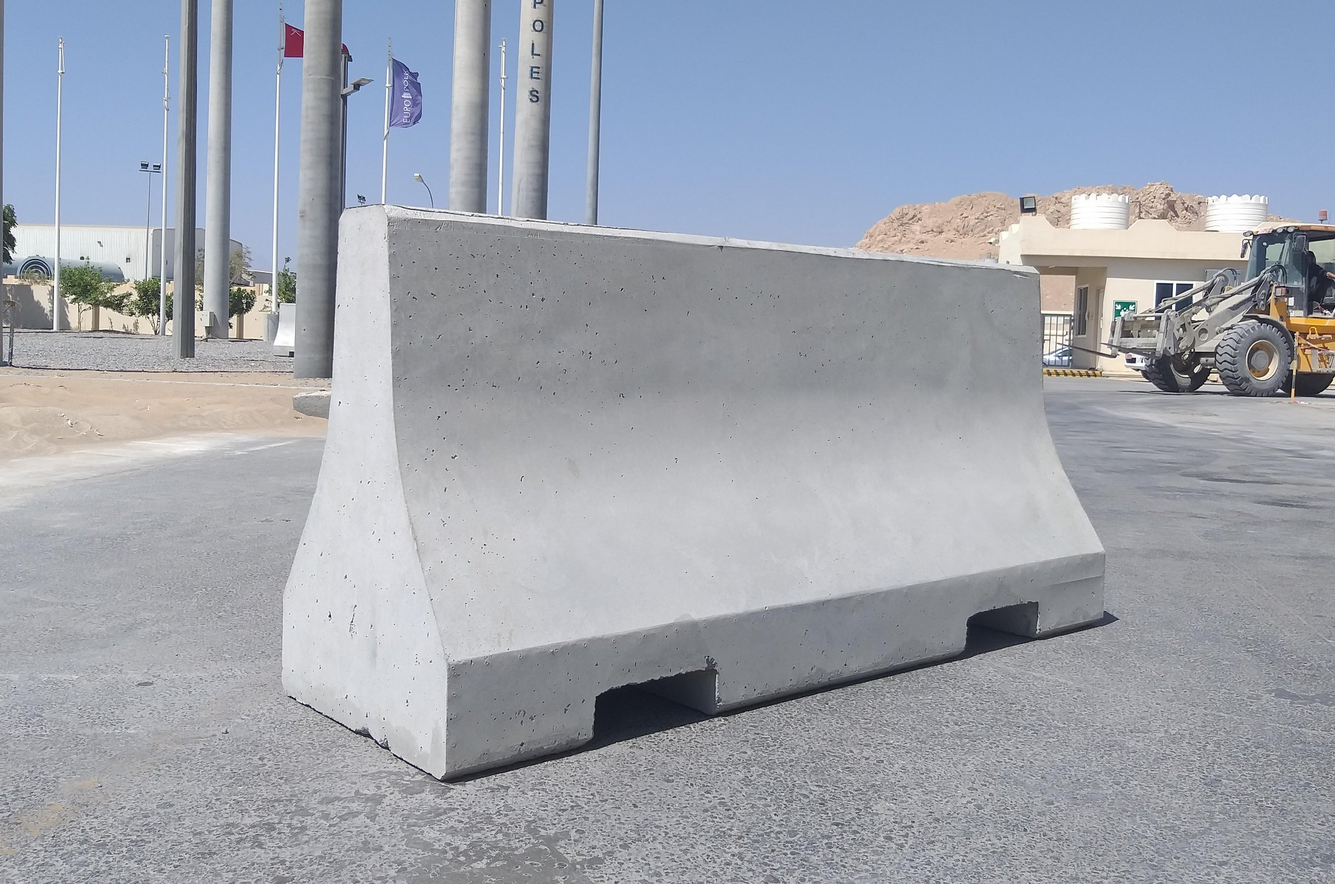Barrier: (220, 149, 1135, 770)
